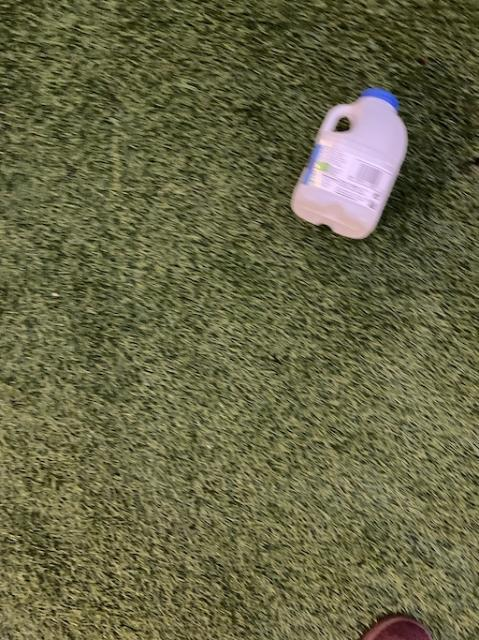plastic: (290, 88, 406, 236)
